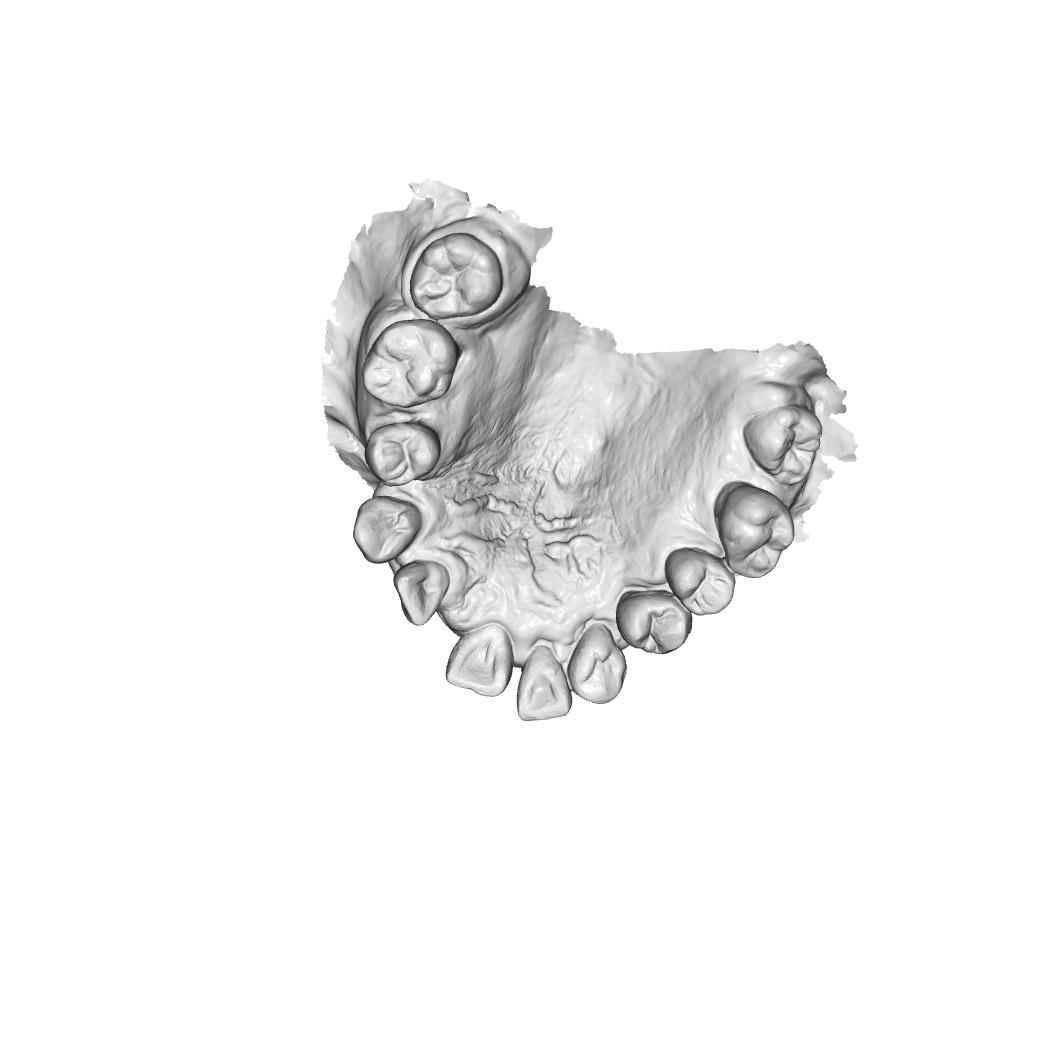canine: (569, 625, 632, 709), (355, 497, 421, 567)
incisor: (444, 622, 512, 700), (515, 649, 570, 727), (394, 557, 449, 628)
molar: (710, 478, 798, 582), (404, 229, 504, 315), (364, 319, 455, 403), (738, 403, 824, 487)
premolar: (352, 417, 445, 490), (663, 544, 737, 618), (619, 588, 693, 661)
